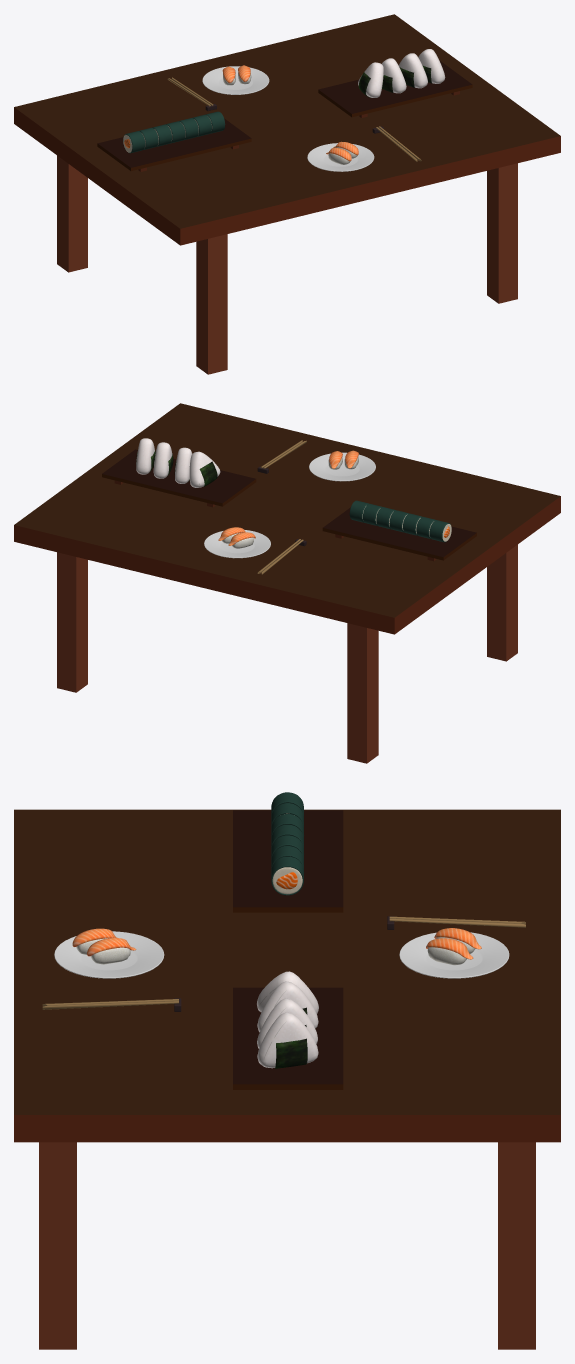
The model's file is table_w_sushi.fbx.
3 views of the same model, one above another, from view 1: azimuth 30°, elevation 25°; view 2: azimuth 150°, elevation 25°; view 3: azimuth 270°, elevation 25° (orthographic). The views are drawn at different scales.
Parts seen in each view (by area): view 1: Table, bandeja.001, bandeja, fila_onigiri, fila_maki, plate, plate2, sushi_salmon; view 2: Table, bandeja.001, bandeja, fila_onigiri, fila_maki, plate2, plate, sushi_salmon; view 3: Table, bandeja, bandeja.001, fila_onigiri, fila_maki, sushi_salmon, plate, plate2, palillos, palillos2.
Boxes of the visible parts, left/top/right/bottom form: Table: left=14, top=14, right=560, bottom=374; bandeja.001: left=318, top=60, right=472, bottom=117; bandeja: left=97, top=118, right=251, bottom=171; fila_onigiri: left=358, top=49, right=445, bottom=97; fila_maki: left=123, top=111, right=225, bottom=153; plate: left=202, top=66, right=269, bottom=94; plate2: left=307, top=143, right=374, bottom=171; sushi_salmon: left=222, top=65, right=358, bottom=164; Table: left=14, top=403, right=560, bottom=763; bandeja.001: left=102, top=449, right=256, bottom=507; bandeja: left=322, top=507, right=476, bottom=561; fila_onigiri: left=136, top=438, right=220, bottom=487; fila_maki: left=349, top=500, right=451, bottom=542; plate2: left=309, top=452, right=375, bottom=481; plate: left=204, top=530, right=270, bottom=558; sushi_salmon: left=218, top=450, right=358, bottom=548; Table: left=14, top=809, right=560, bottom=1349; bandeja: left=233, top=810, right=343, bottom=912; bandeja.001: left=233, top=987, right=343, bottom=1089; fila_onigiri: left=257, top=971, right=318, bottom=1068; fila_maki: left=271, top=792, right=304, bottom=895; sushi_salmon: left=72, top=928, right=481, bottom=965; plate: left=399, top=932, right=509, bottom=978; plate2: left=54, top=931, right=164, bottom=978; palillos: left=389, top=916, right=525, bottom=927; palillos2: left=42, top=999, right=178, bottom=1009.
Bounding box in the file's own units: 40.34 × 30.54 × 20.
Materials: 14 (3 with a texture image).
